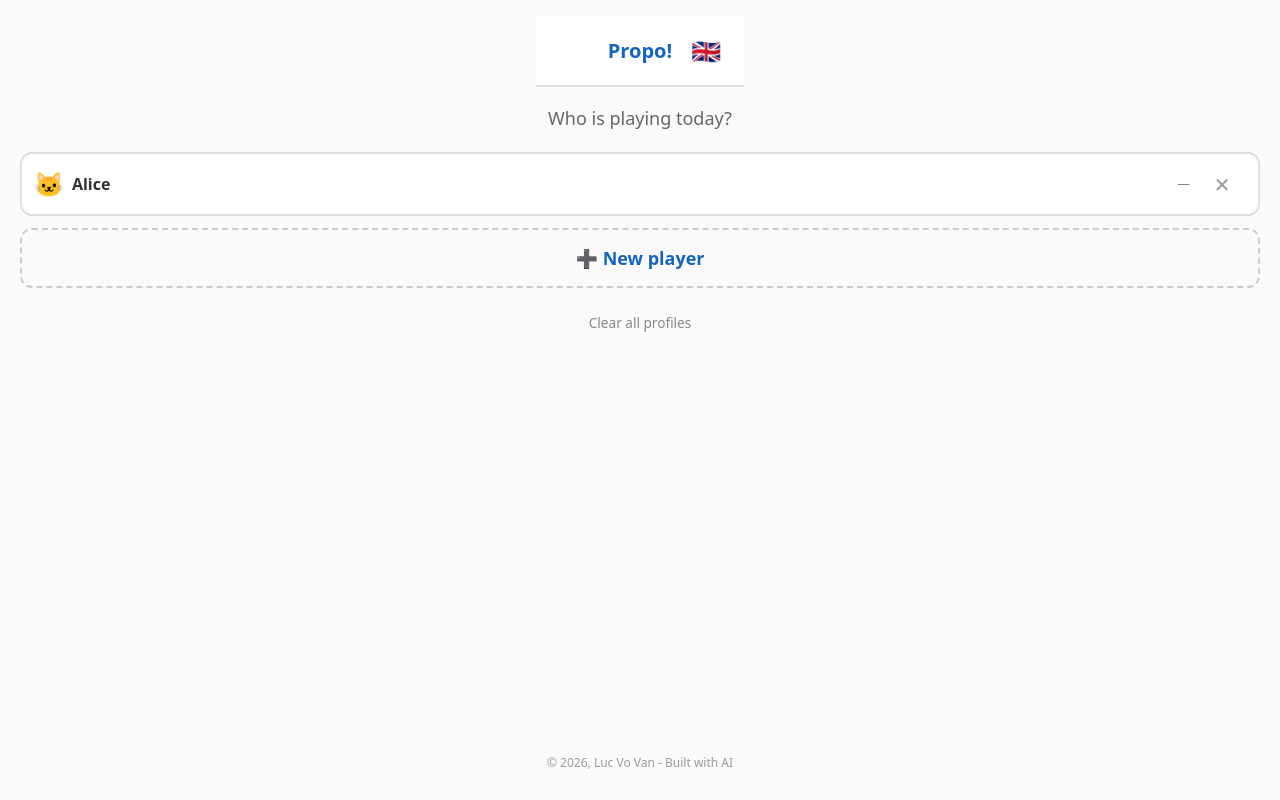
Test: Clear All Flow Integration › opens confirmation dialog when clear-all is clicked
Click the button "Clear all profiles" at (640, 322), box [20,300,1260,344]
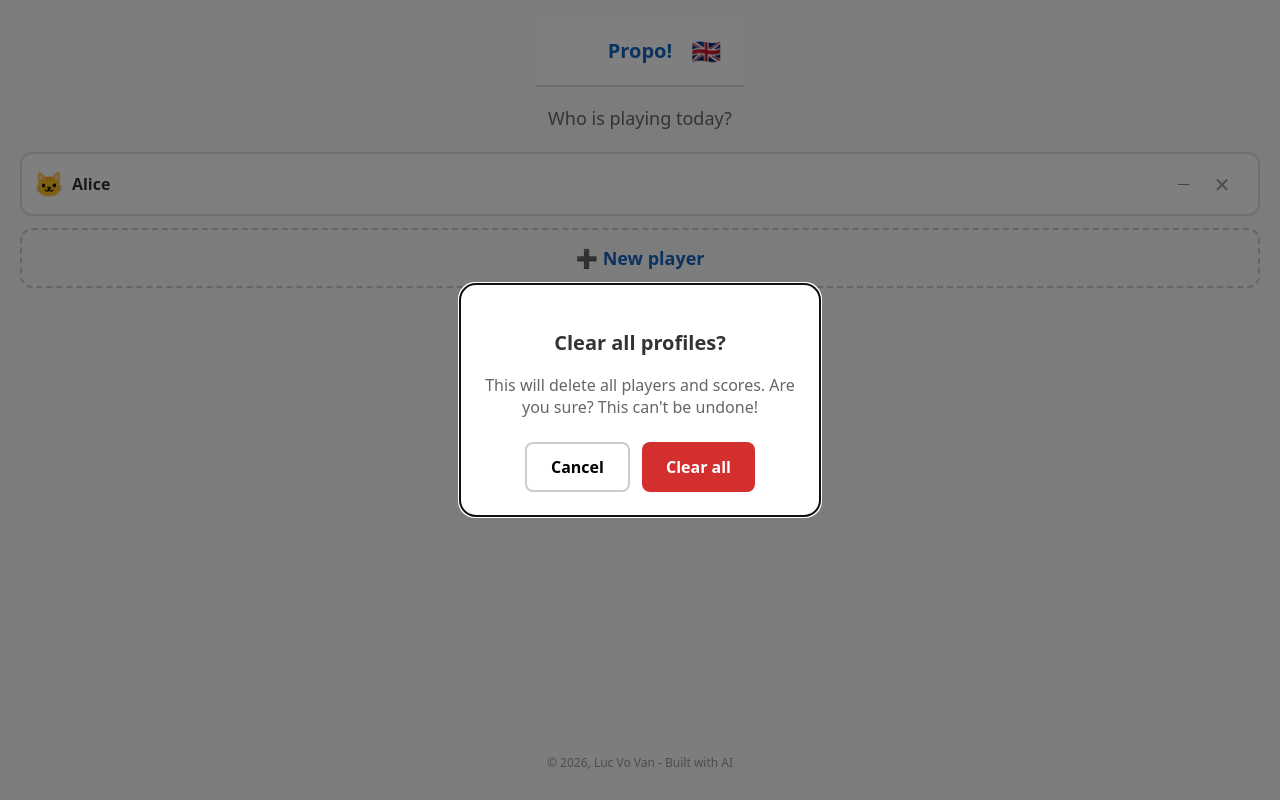
Expected: the dialog "Clear all profiles" is shown, [460,284,820,516]
Expected: the text "This will delete all players" is shown, [485,374,795,418]
